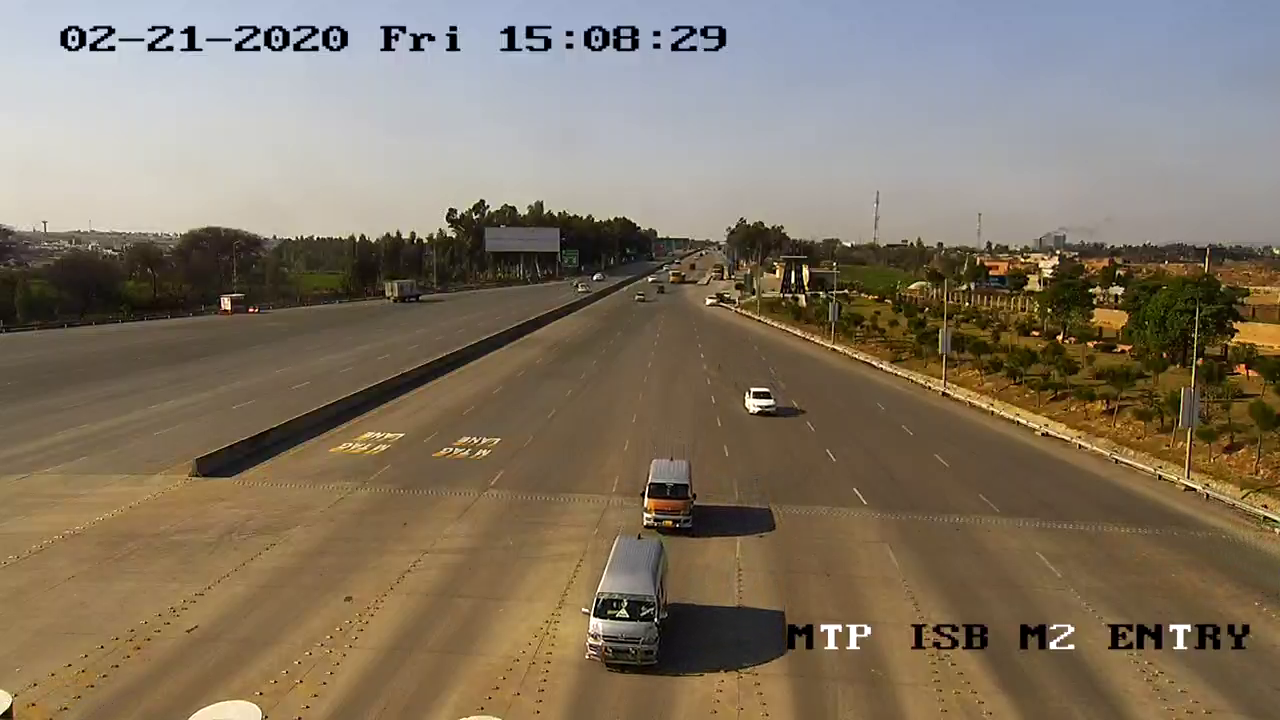f1: (735, 378, 782, 424)
f3: (580, 527, 675, 675), (632, 446, 703, 541)
